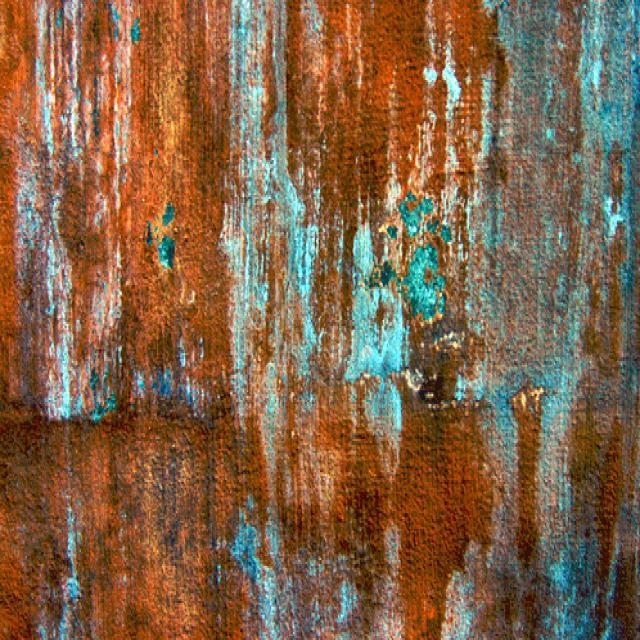Corrosion: (0, 413, 253, 640), (303, 379, 493, 640), (110, 0, 230, 401), (288, 0, 491, 224)
